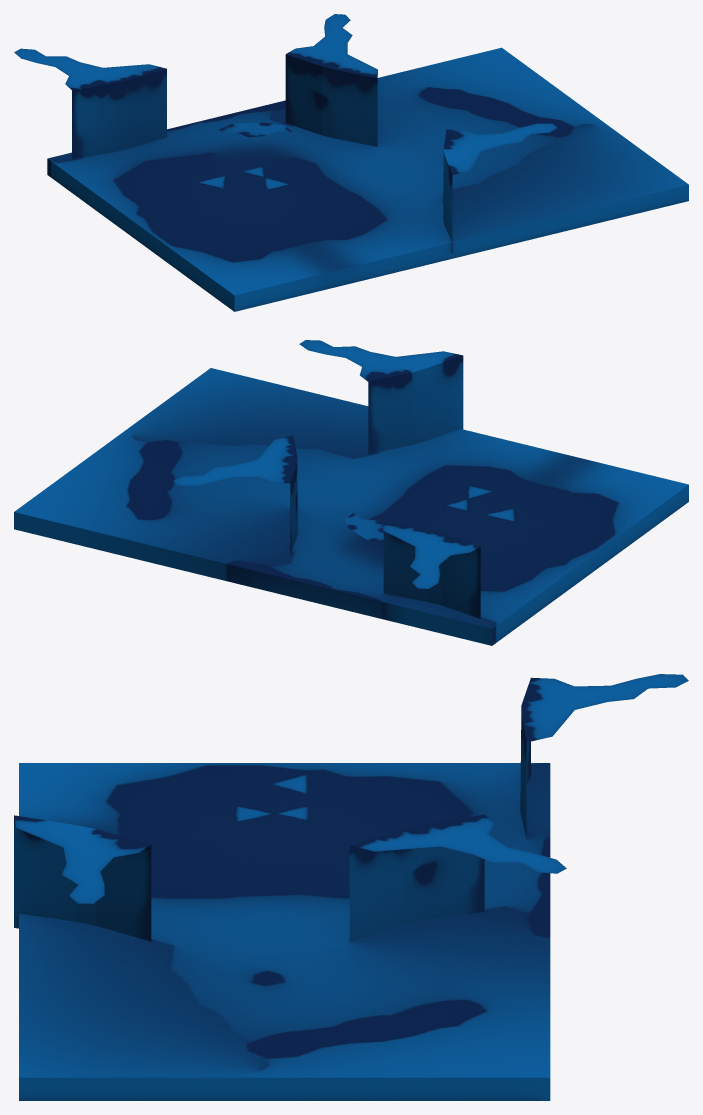
The model's file is Water_01.FBX.
The picture shows the model from 3 angles, top to bottom: view 1: azimuth 30°, elevation 25°; view 2: azimuth 150°, elevation 25°; view 3: azimuth 270°, elevation 25°; orthographic projection. The views are drawn at different scales.
Parts seen in each view (by area): view 1: Water_01; view 2: Water_01; view 3: Water_01.
Boxes of the visible parts, <box> form: Water_01: <box>14,14,688,311</box>; Water_01: <box>14,340,688,645</box>; Water_01: <box>14,674,688,1100</box>.
Bounding box in the file's own units: 43.38 × 7.76 × 39.32.
